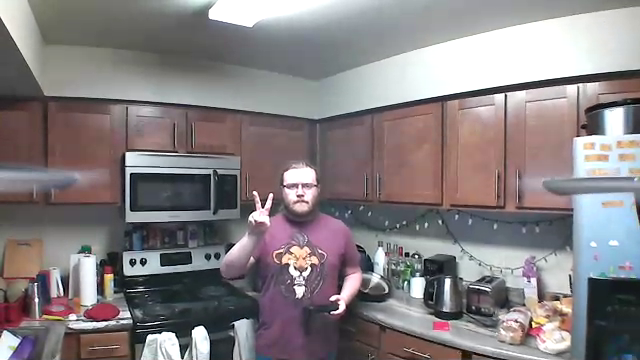peace: (241, 187, 278, 236)
